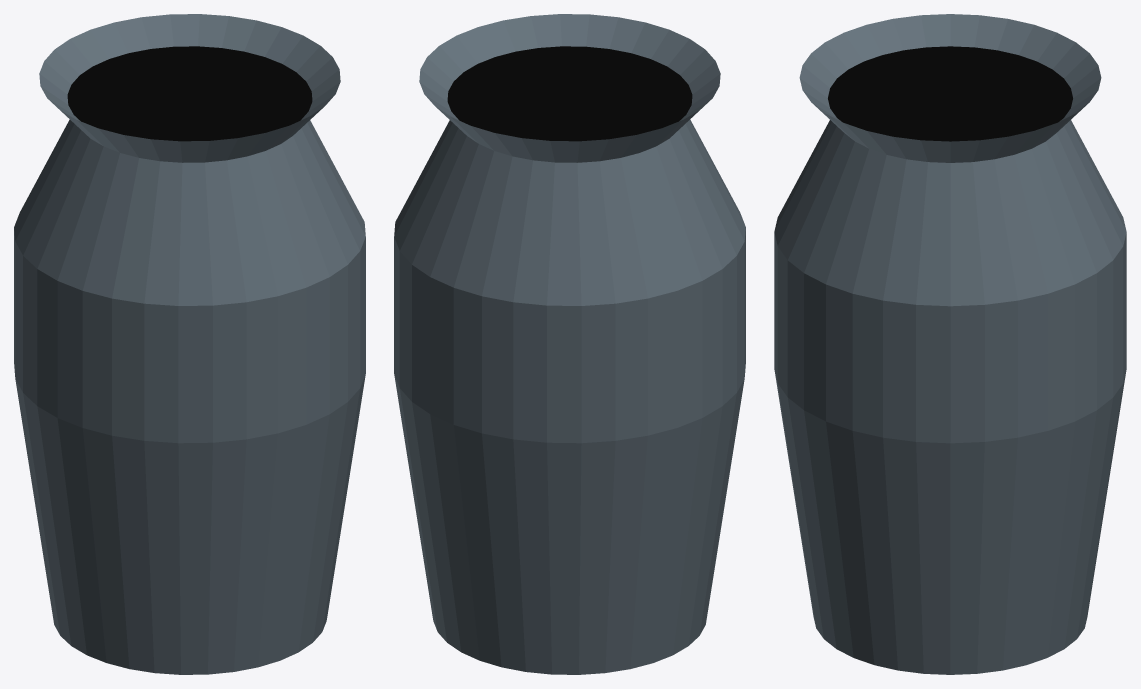
File: Vase1.fbx
3 views of the same model, side by side, from view 1: azimuth 30°, elevation 25°; view 2: azimuth 150°, elevation 25°; view 3: azimuth 270°, elevation 25° (orthographic).
Visible parts, largest first — view 1: Cylinder; view 2: Cylinder; view 3: Cylinder.
Boxes of the visible parts, bbox=[...] form: Cylinder: bbox=[14, 14, 365, 674]; Cylinder: bbox=[394, 14, 745, 674]; Cylinder: bbox=[774, 14, 1126, 674].
Bounding box in the file's own units: 257 × 435 × 257.
